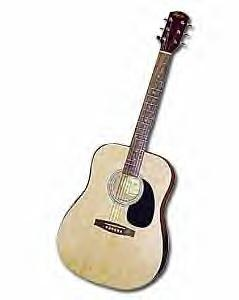guitar: (55, 10, 191, 294)
